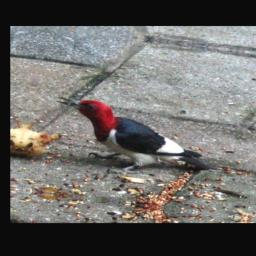Woodpecker: (35, 91, 234, 191)
